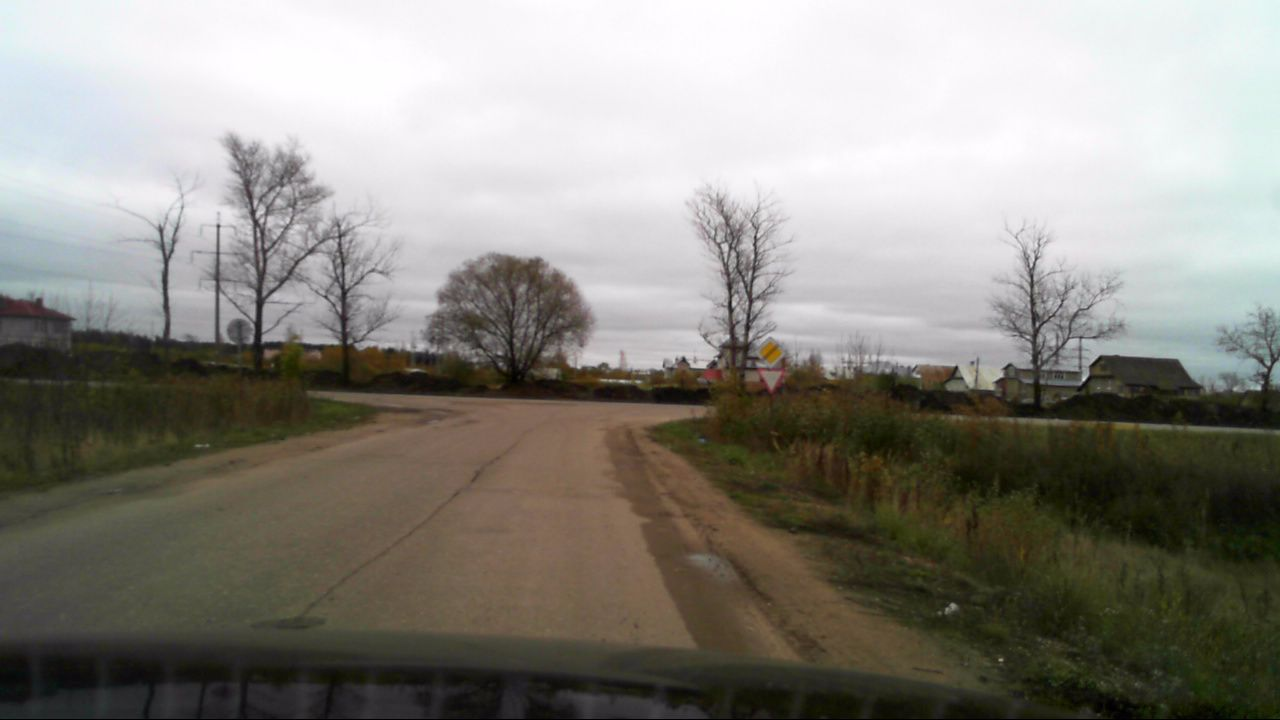main road: (754, 336, 786, 367)
